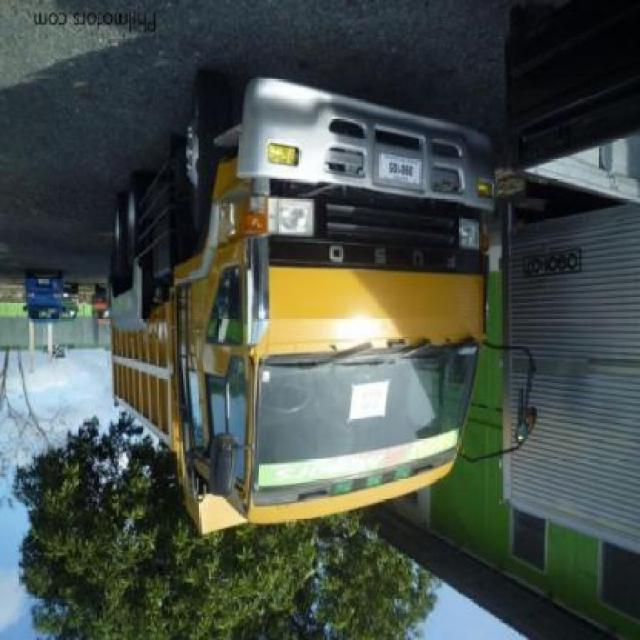truck: (106, 78, 534, 542)
